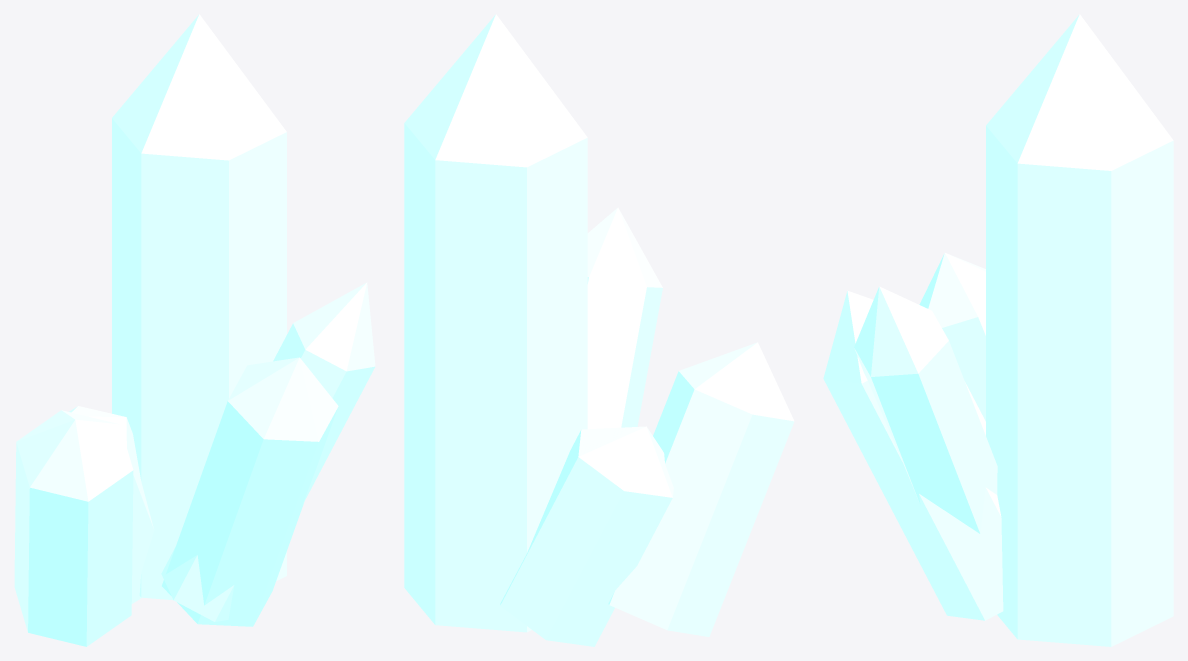
File: prop_crystal.glb
The picture shows the model from 3 angles, left to right: view 1: azimuth 30°, elevation 25°; view 2: azimuth 150°, elevation 25°; view 3: azimuth 270°, elevation 25°; orthographic projection. The views are drawn at different scales.
Parts seen in each view (by area): view 1: prop_crystal; view 2: prop_crystal; view 3: prop_crystal.
Boxes of the visible parts, box(x1,y1,x2,y2) form: prop_crystal: box(14, 14, 375, 646); prop_crystal: box(404, 14, 794, 646); prop_crystal: box(823, 14, 1173, 646).
Bounding box in the file's own units: 0.3274 × 0.5633 × 0.2935.
